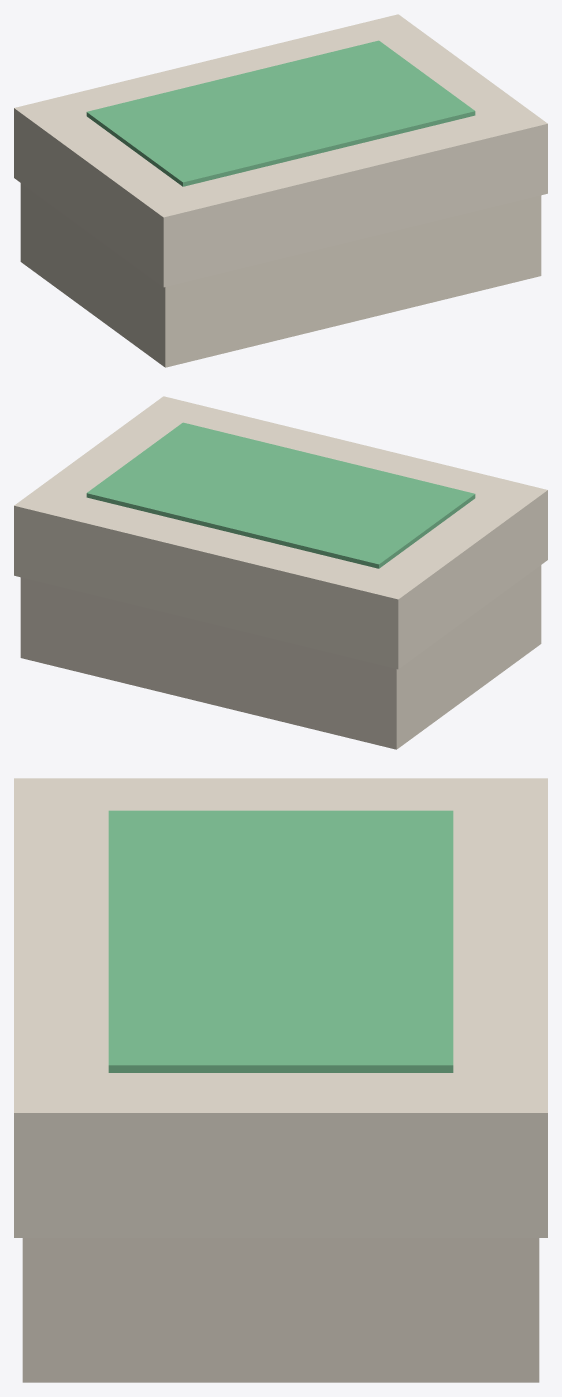
File: egg-carton.glb
The picture shows the model from 3 angles, top to bottom: view 1: azimuth 30°, elevation 25°; view 2: azimuth 150°, elevation 25°; view 3: azimuth 270°, elevation 25°; orthographic projection. The views are drawn at different scales.
Visible parts, largest first — view 1: egg_lid, egg_base, egg_label; view 2: egg_lid, egg_base, egg_label; view 3: egg_lid, egg_label, egg_base.
Boxes of the visible parts, x1,y1,x2,y2 form: egg_lid: (14, 14, 547, 287); egg_base: (20, 183, 541, 367); egg_label: (86, 40, 475, 186); egg_lid: (14, 396, 547, 669); egg_base: (20, 565, 541, 749); egg_label: (86, 422, 475, 568); egg_lid: (14, 778, 547, 1237); egg_label: (108, 810, 453, 1072); egg_base: (22, 1238, 539, 1382).
Size of the model in its own units: 0.184 by 0.072 by 0.124.
